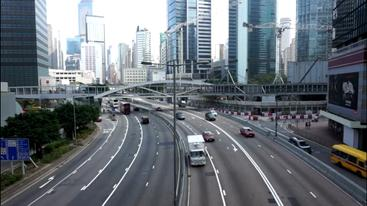bus: (329, 139, 367, 182)
car: (286, 134, 320, 155), (236, 123, 259, 141), (200, 129, 219, 145), (203, 109, 219, 127)
truck: (181, 130, 211, 171)
